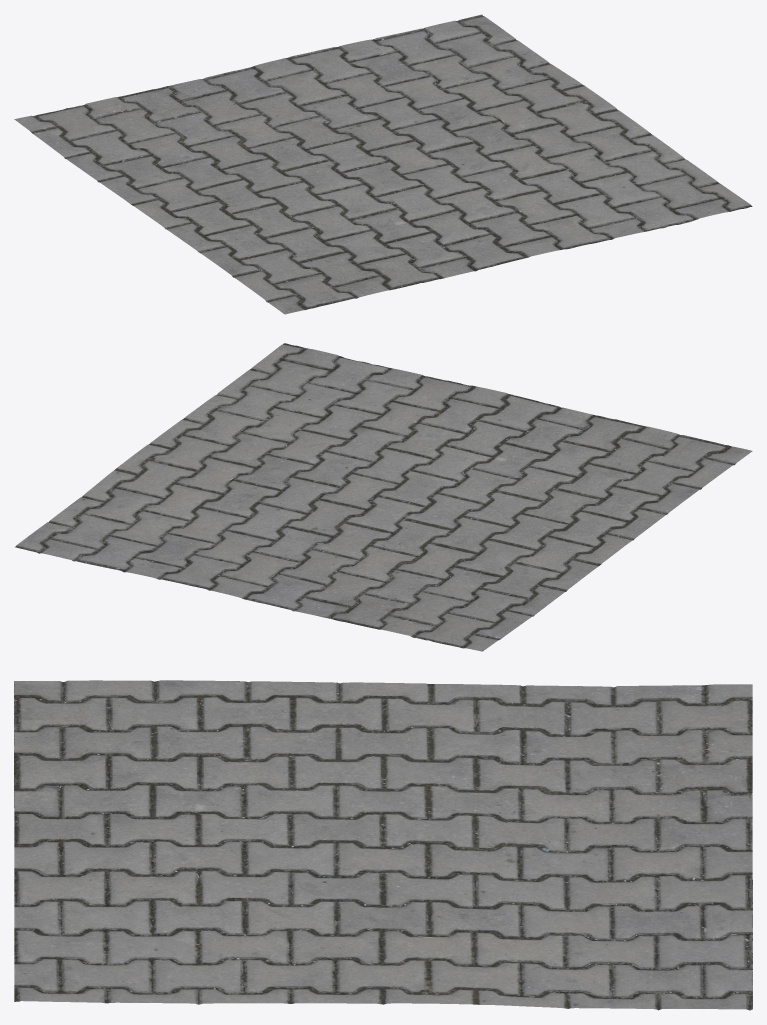
File: lock_paving_square_2k.glb
The picture shows the model from 3 angles, top to bottom: view 1: azimuth 30°, elevation 25°; view 2: azimuth 150°, elevation 25°; view 3: azimuth 270°, elevation 25°; orthographic projection. The views are drawn at different scales.
Parts seen in each view (by area): view 1: zamkova_dlazba_zamkova_dlazba_DiffuseMap_0; view 2: zamkova_dlazba_zamkova_dlazba_DiffuseMap_0; view 3: zamkova_dlazba_zamkova_dlazba_DiffuseMap_0.
Part boxes in pixels (x1=…): zamkova_dlazba_zamkova_dlazba_DiffuseMap_0: x1=14, y1=14, x2=752, y2=314; zamkova_dlazba_zamkova_dlazba_DiffuseMap_0: x1=15, y1=343, x2=752, y2=651; zamkova_dlazba_zamkova_dlazba_DiffuseMap_0: x1=14, y1=680, x2=752, y2=1010.
Bounding box in the file's own units: 1.28 × 0.0348 × 1.28.
Materials: 1 (1 with a texture image).
